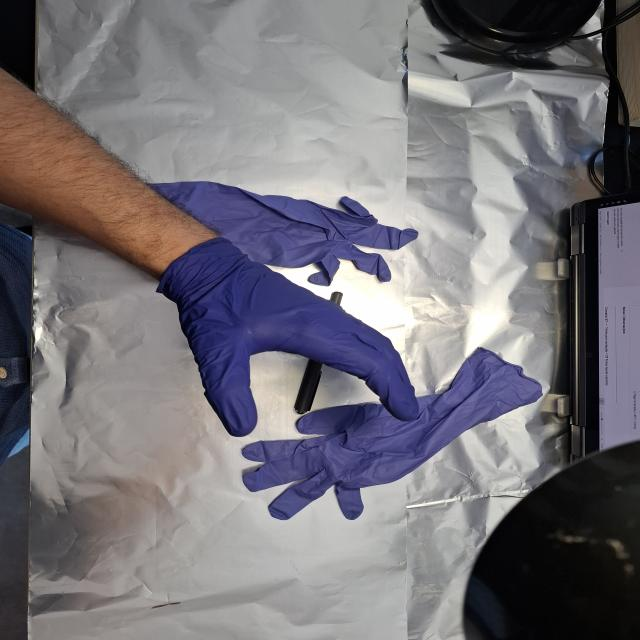glove_on: (152, 236, 423, 439)
